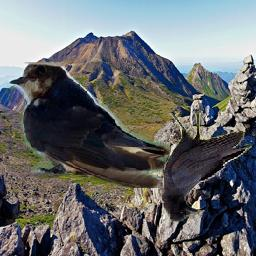Crow: (160, 104, 252, 223)
Swallow: (10, 62, 171, 188)
